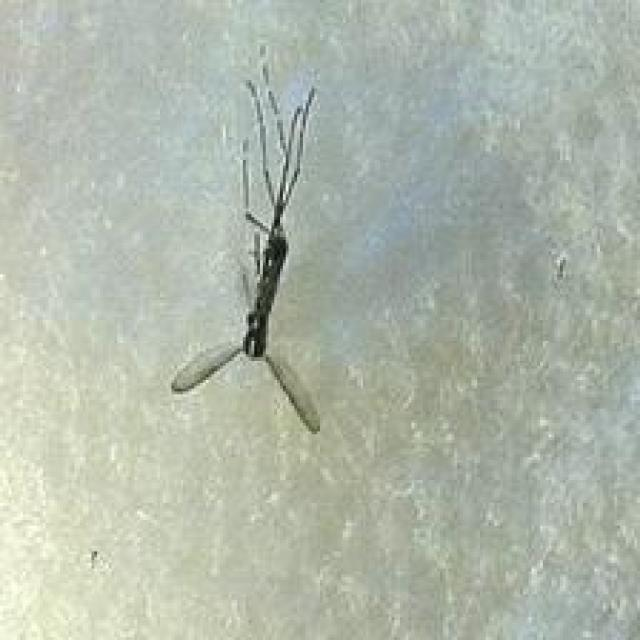Aedes albopictus: (170, 44, 324, 436)
